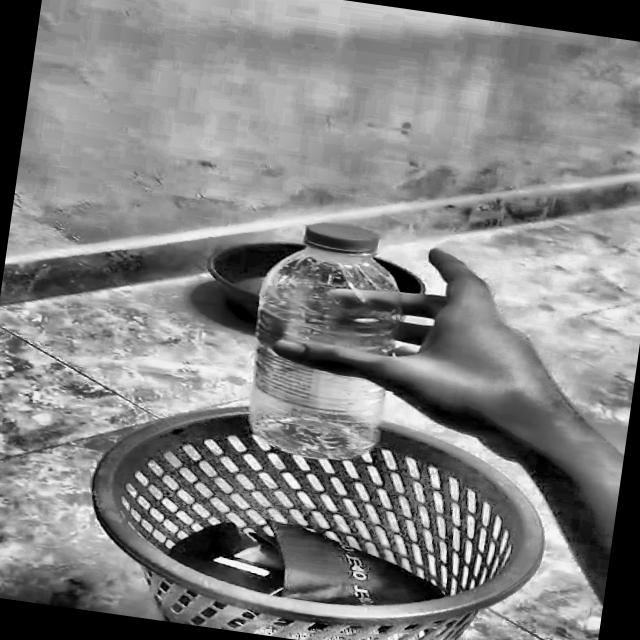Dustbin: (32, 378, 577, 640)
Empty: (91, 392, 541, 622)
Plastic-Bottle: (215, 212, 414, 476)
